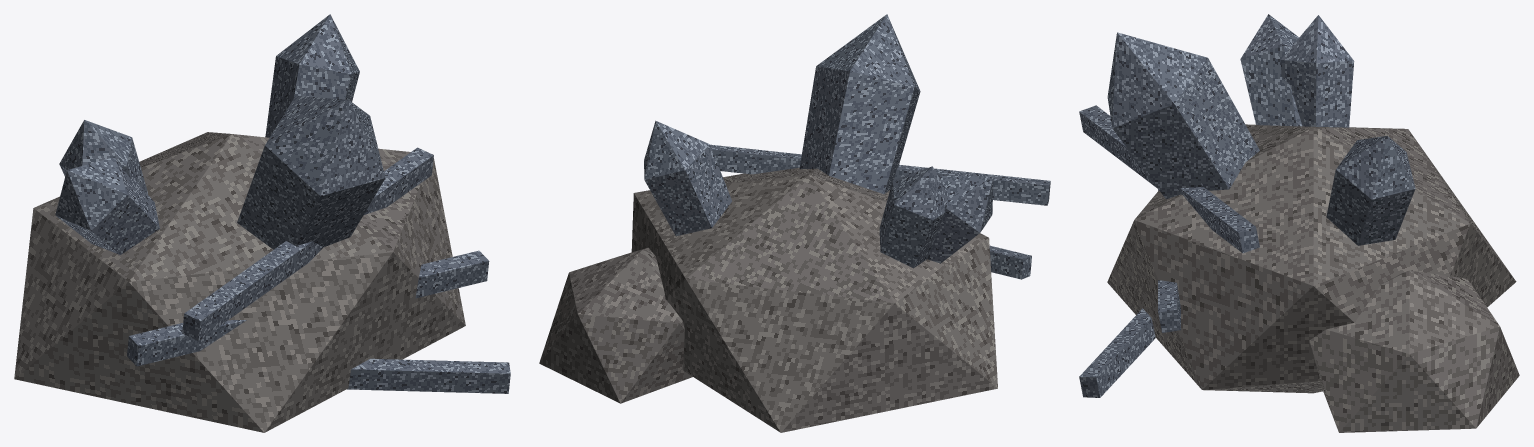
File: ironvein_ore.glb
3 renders of one model, left to right at view 1: azimuth 30°, elevation 25°; view 2: azimuth 150°, elevation 25°; view 3: azimuth 270°, elevation 25°, orthographic. The views are drawn at different scales.
Parts seen in each view (by area): view 1: Body.012; view 2: Body.012; view 3: Body.012.
Part boxes in pixels (x1,y1,x2,y2): Body.012: [14, 14, 510, 432]; Body.012: [539, 14, 1050, 432]; Body.012: [1079, 14, 1519, 432].
Size of the model in its own units: 0.2549 by 0.2111 by 0.2297.
Materials: 2 (2 with a texture image).
